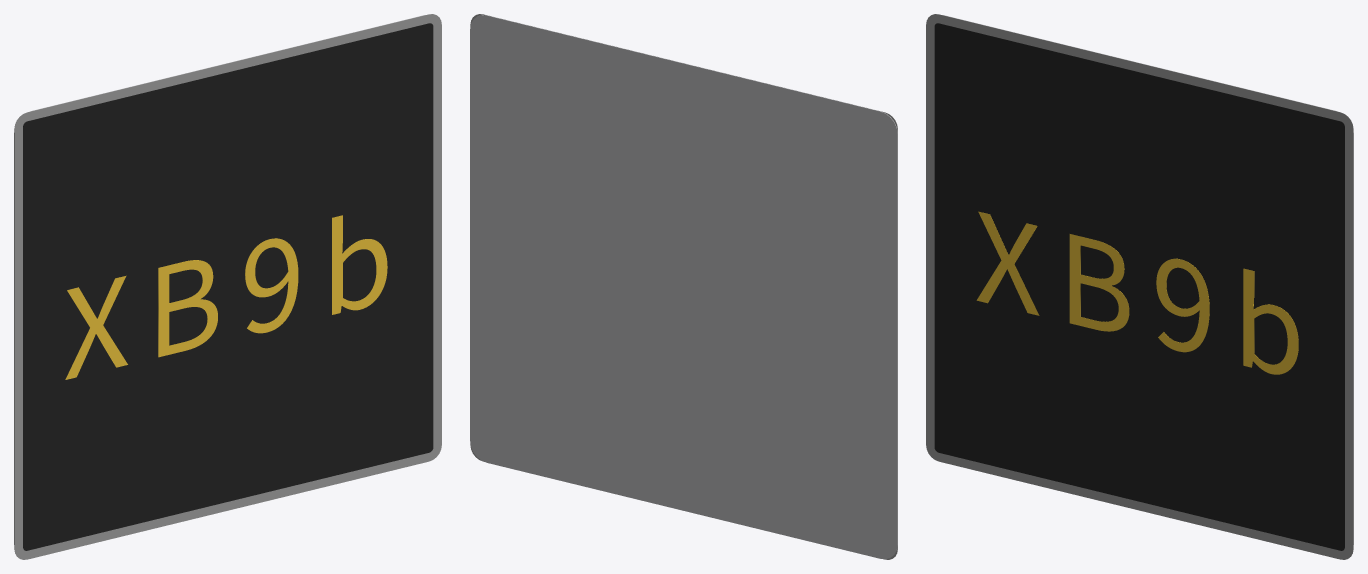
3 views of the same model, side by side, from view 1: azimuth 30°, elevation 25°; view 2: azimuth 150°, elevation 25°; view 3: azimuth 330°, elevation 25° (orthographic).
Visible parts, largest first — view 1: XB9b_fond01, XB9b_cadre00, XB9b_txt02, XB9b_dos; view 2: XB9b_dos, XB9b_cadre00; view 3: XB9b_fond01, XB9b_cadre00, XB9b_txt02, XB9b_dos.
Part boxes in pixels (x1,y1,x2,y2): XB9b_fond01: (23,23,433,550); XB9b_cadre00: (14,14,441,559); XB9b_txt02: (65,215,387,379); XB9b_dos: (14,15,424,544); XB9b_dos: (470,15,897,559); XB9b_cadre00: (470,14,897,559); XB9b_fond01: (934,23,1344,550); XB9b_cadre00: (926,14,1353,559); XB9b_txt02: (976,211,1298,374); XB9b_dos: (943,15,1353,544).
Bounding box in the file's own units: 1 × 1 × 0.0025.
